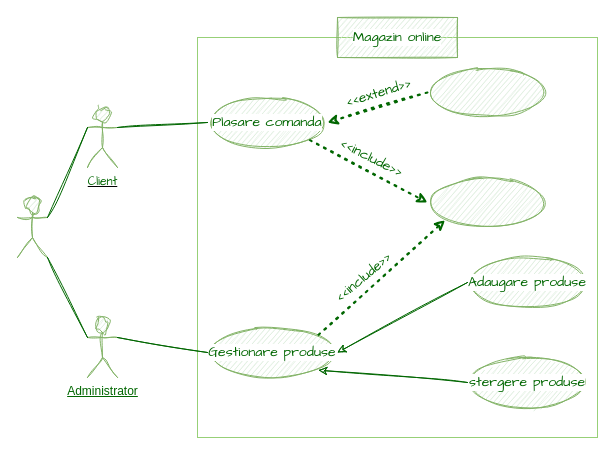
This 615x455 diagram has some shape labels left out. The shapes that lost their labels are listed below. From the top down, each one's centre as x and y in pixels, then its label:
[487,92]: Solicitare factura
[487,202]: Logare
[32,227]: Utiliz
